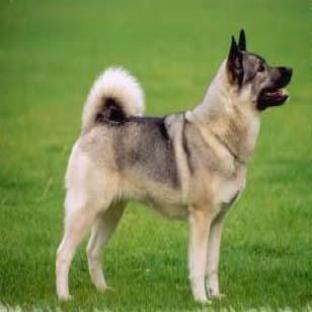Animal: (56, 29, 292, 303)
